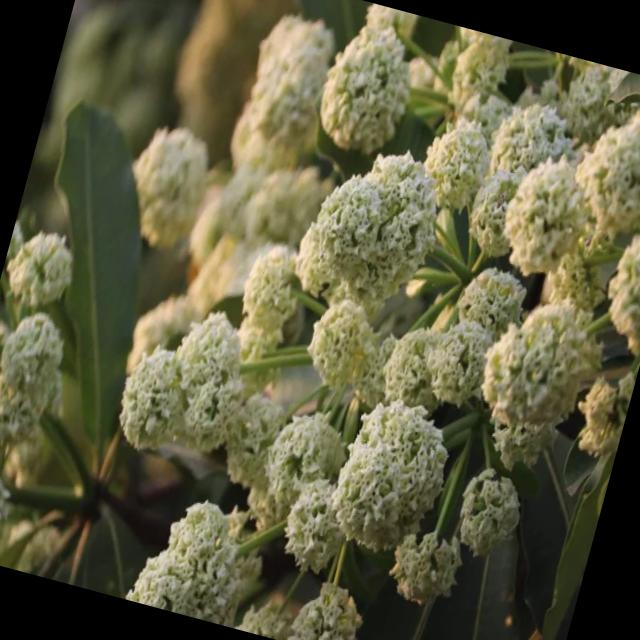Indian Pulai: (89, 37, 563, 640)
